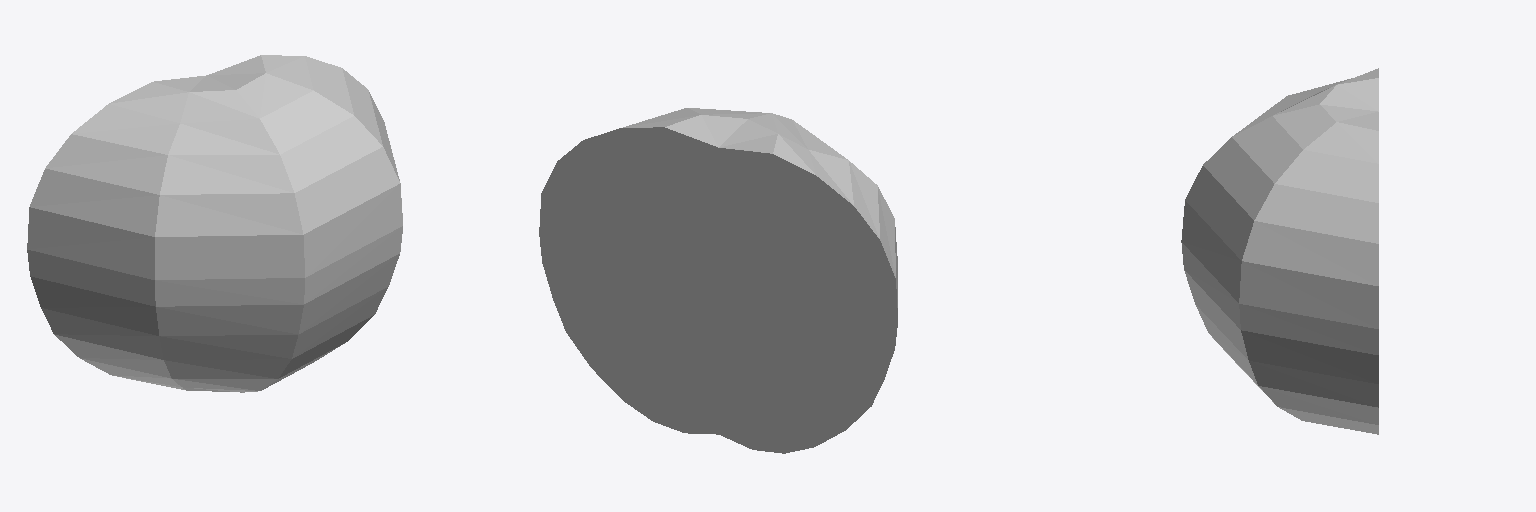
Rendered from Orange-C.obj.
3 views of the same model, side by side, from view 1: azimuth 30°, elevation 25°; view 2: azimuth 150°, elevation 25°; view 3: azimuth 270°, elevation 25° (orthographic).
Parts seen in each view (by area): view 1: Cube.006; view 2: Cube.006; view 3: Cube.006.
Part boxes in pixels (left/top/right/bottom): Cube.006: left=27, top=55, right=402, bottom=392; Cube.006: left=539, top=108, right=897, bottom=453; Cube.006: left=1181, top=68, right=1378, bottom=434.
Size of the model in its own units: 0.4404 by 0.3579 by 0.2095.